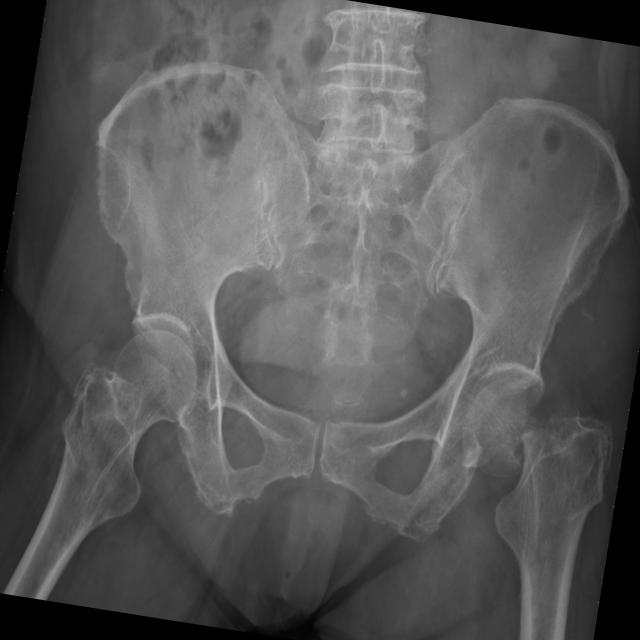left-neck: (495, 398, 613, 630), (461, 377, 543, 477)
normal-right: (2, 330, 197, 601)
